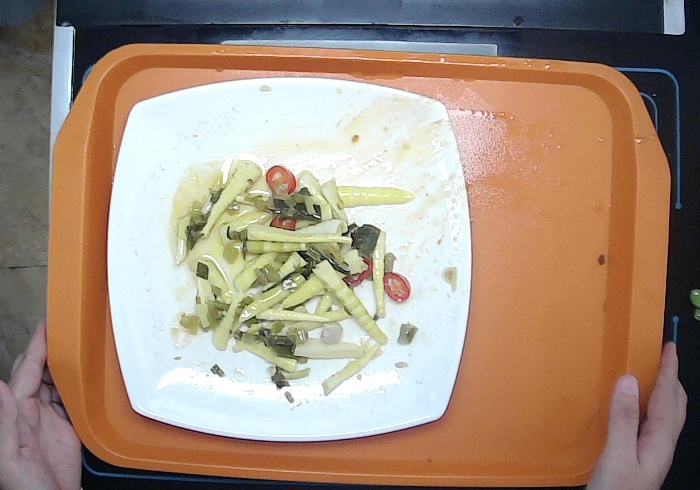ZNLD-Bai_Fang_Pan: (104, 74, 474, 444)
